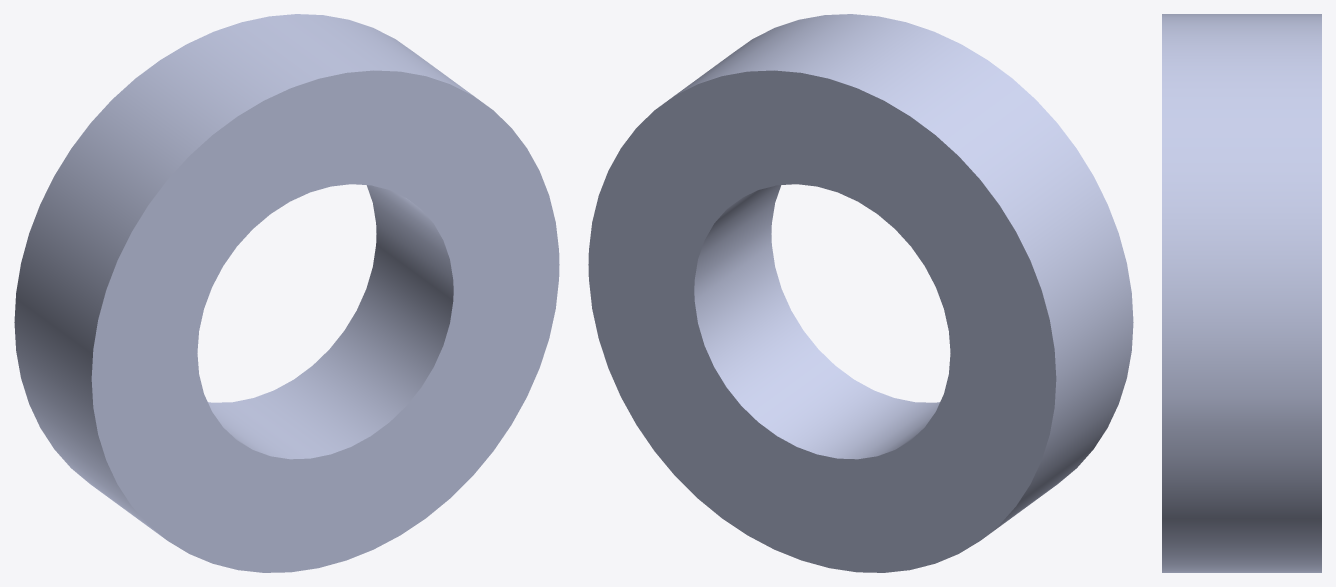
File: c_3_robot_export_clean__wheel_tire_1.dae
3 renders of one model, left to right at view 1: azimuth 30°, elevation 25°; view 2: azimuth 150°, elevation 25°; view 3: azimuth 270°, elevation 25°, orthographic. The views are drawn at different scales.
Parts seen in each view (by area): view 1: node0; view 2: node0; view 3: node0.
Boxes of the visible parts, x1,y1,x2,y2 form: node0: (14,14,559,572); node0: (588,14,1133,572); node0: (1162,14,1321,572).
Size of the model in its own units: 0.084 by 0.084 by 0.024.
